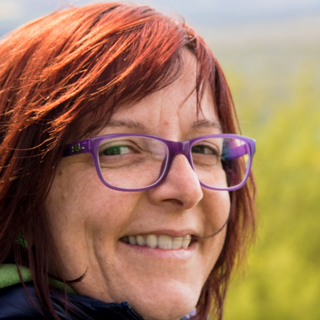eye: (96, 140, 142, 163)
